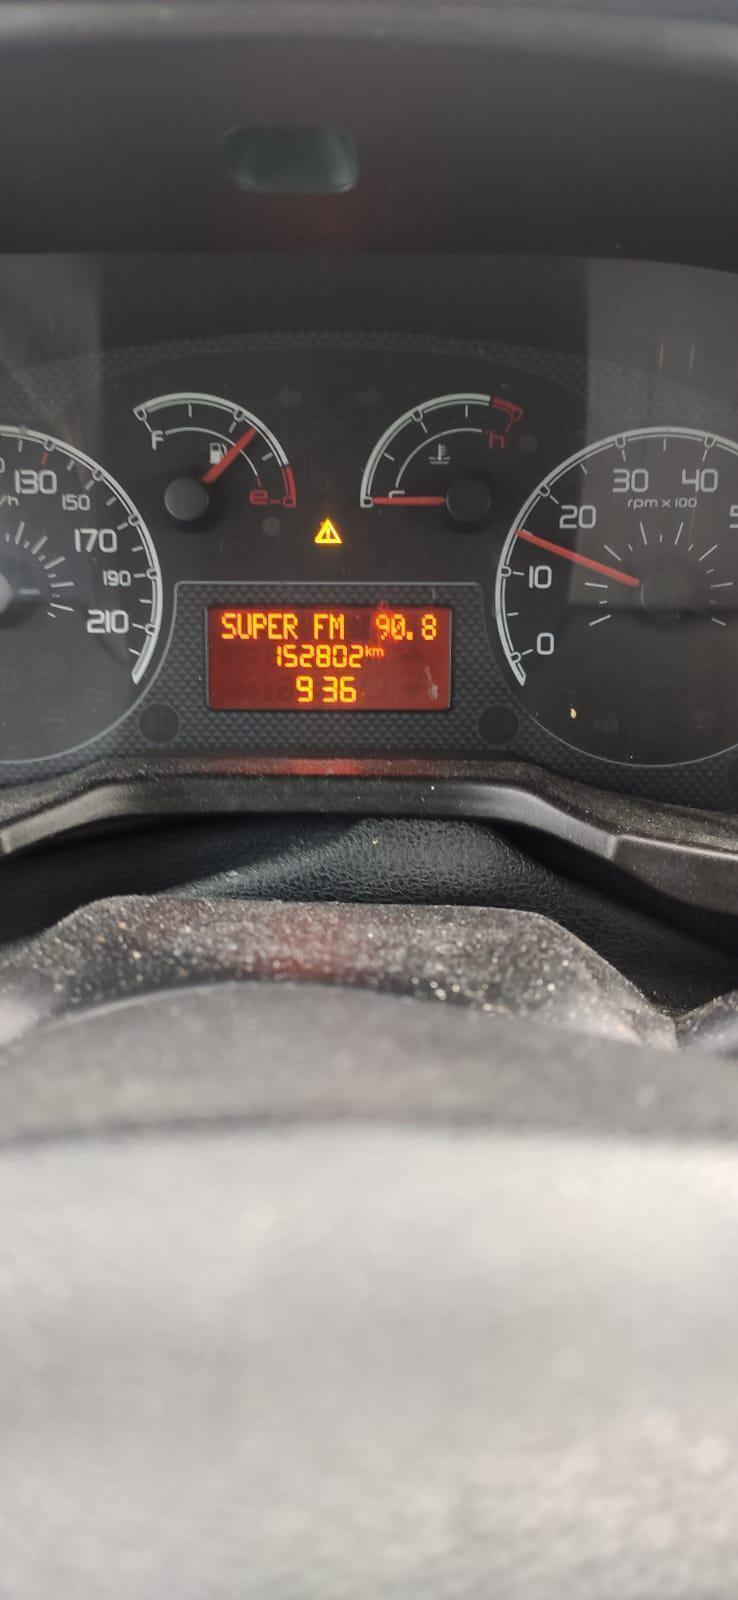,: (405, 630, 414, 641)
0: (332, 642, 348, 668), (391, 612, 405, 640)
1: (272, 643, 282, 667)
2: (347, 642, 363, 668), (299, 642, 314, 668)
3: (319, 674, 338, 703)
5: (282, 643, 298, 668)
6: (339, 674, 358, 703)
8: (419, 612, 438, 641), (315, 643, 330, 668)
9: (293, 673, 314, 703), (373, 612, 390, 641)
X: (328, 613, 346, 641), (236, 610, 252, 640), (219, 610, 236, 640), (251, 611, 267, 641), (311, 611, 328, 640), (267, 611, 283, 641), (283, 611, 298, 641), (372, 646, 385, 658), (364, 642, 372, 658)
odometer: (196, 594, 462, 718)
